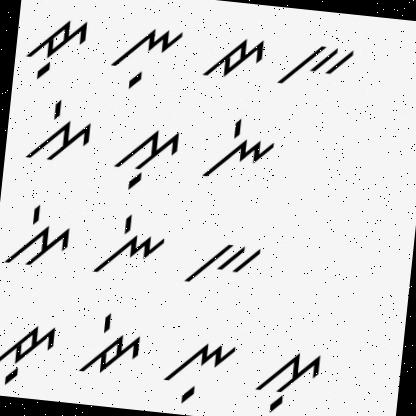ja: (200, 32, 268, 87)
je: (74, 309, 146, 384)
ju: (20, 9, 92, 87), (0, 313, 57, 392)
nye: (195, 115, 278, 192), (88, 209, 166, 284)
nyu: (102, 15, 187, 96), (156, 333, 240, 411)
se: (17, 93, 96, 170), (3, 198, 76, 274)
su: (110, 121, 184, 196), (252, 338, 323, 416)
